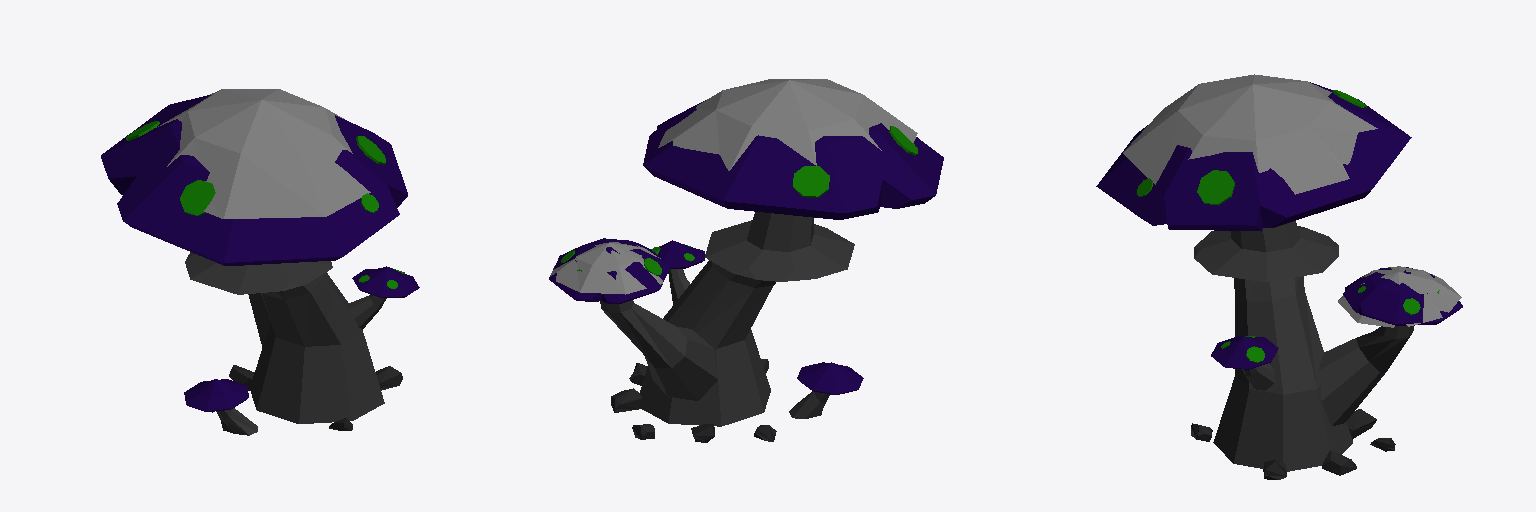
The model's file is mushroom2.obj.
3 views of the same model, side by side, from view 1: azimuth 30°, elevation 25°; view 2: azimuth 150°, elevation 25°; view 3: azimuth 270°, elevation 25° (orthographic).
Visible parts, largest first — view 1: Cone.012_Cone.013, Cone.009, Cylinder.063_Cylinder.082, Cylinder.060_Cylinder.079, Cone.007_Cone.011, Cone.011_Cone.012, Cylinder.057_Cylinder.076, Cylinder.062_Cylinder.081, Cylinder.046_Cylinder.065, Cylinder.061_Cylinder.080; view 2: Cone.012_Cone.013, Cylinder.063_Cylinder.082, Cone.009, Cylinder.061_Cylinder.080, Cylinder.060_Cylinder.079, Cone.008, Cone.010, Cone.007_Cone.011, Cylinder.055_Cylinder.074, Cone.011_Cone.012, Cylinder.046_Cylinder.065, Cube.221_Cube.472; view 3: Cone.009, Cylinder.063_Cylinder.082, Cone.012_Cone.013, Cylinder.061_Cylinder.080, Cylinder.060_Cylinder.079, Cone.010, Cone.008, Cone.011_Cone.012, Cylinder.059_Cylinder.078, Cylinder.062_Cylinder.081, Cube.221_Cube.472, Cube.220_Cube.471.
Boxes of the visible parts, x1=… form: Cone.012_Cone.013: x1=101, y1=95, x2=407, y2=265; Cone.009: x1=156, y1=89, x2=370, y2=218; Cylinder.063_Cylinder.082: x1=250, y1=272, x2=384, y2=423; Cylinder.060_Cylinder.079: x1=185, y1=252, x2=332, y2=294; Cone.007_Cone.011: x1=184, y1=379, x2=248, y2=411; Cone.011_Cone.012: x1=352, y1=267, x2=419, y2=297; Cylinder.057_Cylinder.076: x1=180, y1=180, x2=215, y2=215; Cylinder.062_Cylinder.081: x1=348, y1=294, x2=386, y2=329; Cylinder.046_Cylinder.065: x1=216, y1=408, x2=257, y2=435; Cylinder.061_Cylinder.080: x1=248, y1=293, x2=270, y2=347; Cone.012_Cone.013: x1=643, y1=100, x2=943, y2=219; Cylinder.063_Cylinder.082: x1=639, y1=212, x2=813, y2=426; Cone.009: x1=658, y1=79, x2=917, y2=170; Cylinder.061_Cylinder.080: x1=600, y1=300, x2=717, y2=400; Cylinder.060_Cylinder.079: x1=705, y1=220, x2=854, y2=281; Cone.008: x1=550, y1=242, x2=662, y2=294; Cone.010: x1=549, y1=238, x2=670, y2=304; Cone.007_Cone.011: x1=797, y1=362, x2=863, y2=394; Cylinder.055_Cylinder.074: x1=793, y1=166, x2=829, y2=197; Cone.011_Cone.012: x1=658, y1=240, x2=704, y2=268; Cylinder.046_Cylinder.065: x1=789, y1=391, x2=830, y2=418; Cube.221_Cube.472: x1=611, y1=388, x2=641, y2=412; Cone.009: x1=1123, y1=74, x2=1377, y2=194; Cylinder.063_Cylinder.082: x1=1213, y1=221, x2=1352, y2=471; Cone.012_Cone.013: x1=1096, y1=82, x2=1411, y2=230; Cylinder.061_Cylinder.080: x1=1318, y1=325, x2=1414, y2=426; Cylinder.060_Cylinder.079: x1=1194, y1=226, x2=1338, y2=282; Cone.010: x1=1343, y1=267, x2=1462, y2=325; Cone.008: x1=1338, y1=266, x2=1461, y2=327; Cone.011_Cone.012: x1=1211, y1=335, x2=1278, y2=369; Cylinder.059_Cylinder.078: x1=1197, y1=170, x2=1234, y2=205; Cylinder.062_Cylinder.081: x1=1242, y1=363, x2=1274, y2=390; Cube.221_Cube.472: x1=1322, y1=450, x2=1356, y2=475; Cube.220_Cube.471: x1=1346, y1=409, x2=1376, y2=439.
Bounding box in the file's own units: 1.69 × 1.8 × 1.78.